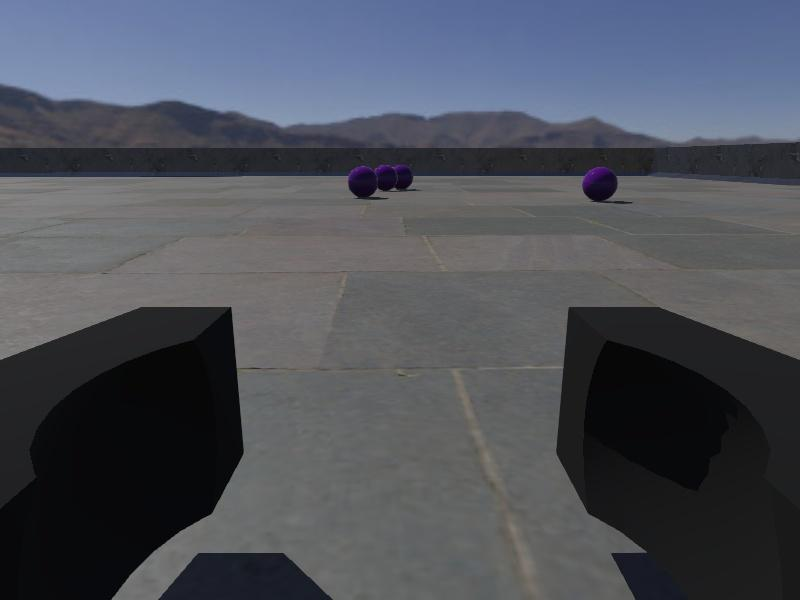violet ball: (582, 166, 618, 202), (347, 166, 379, 197)
